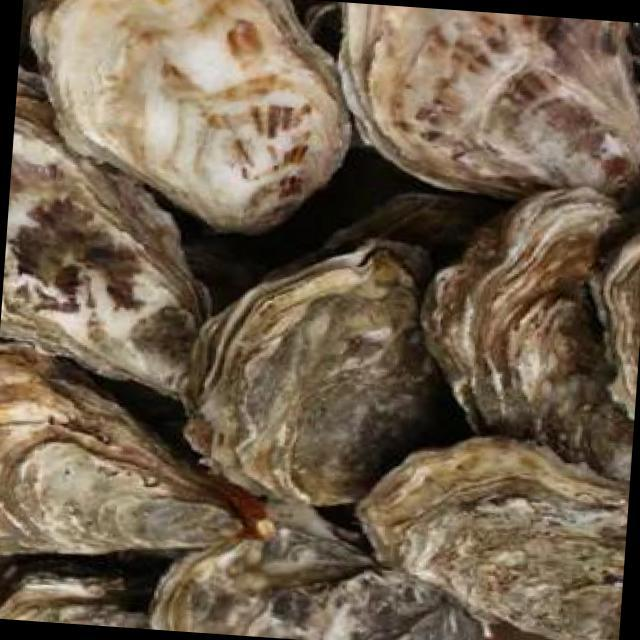Oyster- Indeterminate: (32, 0, 349, 235), (181, 238, 454, 504), (0, 74, 199, 400), (420, 186, 633, 481), (339, 1, 640, 200), (0, 346, 274, 553), (354, 436, 626, 640), (149, 531, 475, 640), (0, 572, 150, 629), (595, 231, 640, 417)
